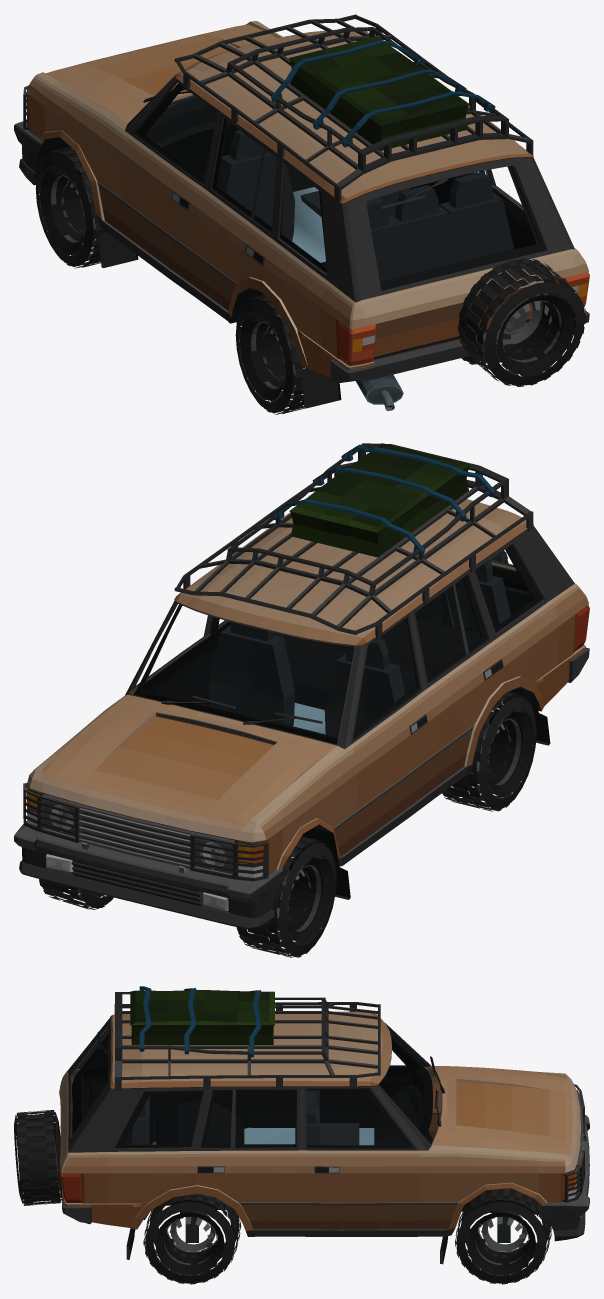
Rendered from rover.glb.
3 views of the same model, one above another, from view 1: azimuth 30°, elevation 25°; view 2: azimuth 150°, elevation 25°; view 3: azimuth 270°, elevation 25° (orthographic). The views are drawn at different scales.
Parts seen in each view (by area): view 1: body, wheel_rl, wheel_fl; view 2: body, wheel_fl, wheel_rl, wheel_fr; view 3: body, wheel_fr, wheel_rr.
Part boxes in pixels (x1,y1,x2,y2): body: [14, 14, 589, 410]; wheel_rl: [235, 294, 309, 414]; wheel_fl: [35, 146, 105, 268]; body: [14, 443, 589, 929]; wheel_fl: [236, 836, 336, 957]; wheel_rl: [442, 691, 536, 811]; wheel_fr: [39, 879, 113, 909]; body: [14, 986, 589, 1264]; wheel_fr: [455, 1188, 552, 1284]; wheel_rr: [143, 1193, 241, 1284].
Size of the model in its own units: 1.76 by 2.04 by 4.54.
